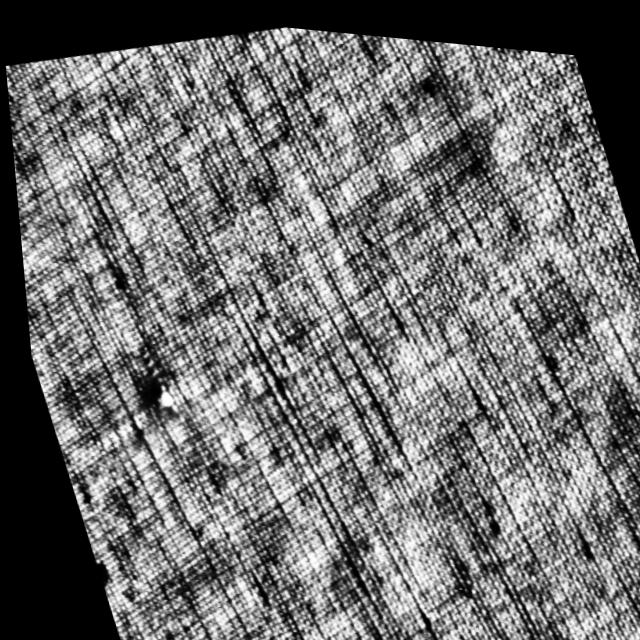Hole: (136, 362, 193, 428)
